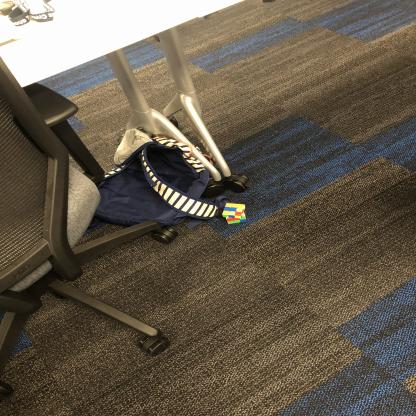UnsolvedCube: (222, 201, 246, 225)
